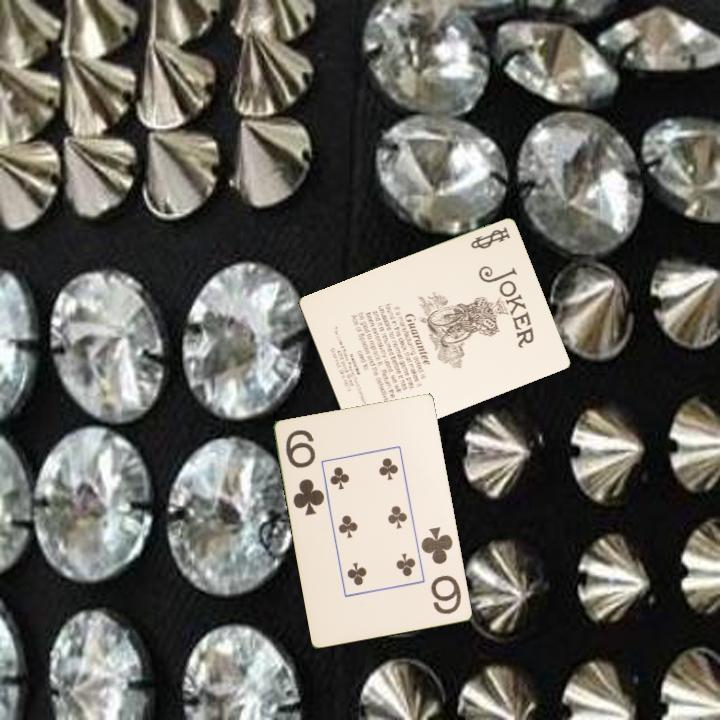6c: (418, 524, 465, 617), (282, 426, 328, 519)
JK: (467, 223, 512, 252)
